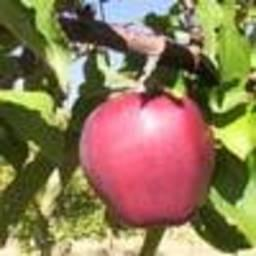apple: (79, 91, 218, 229)
